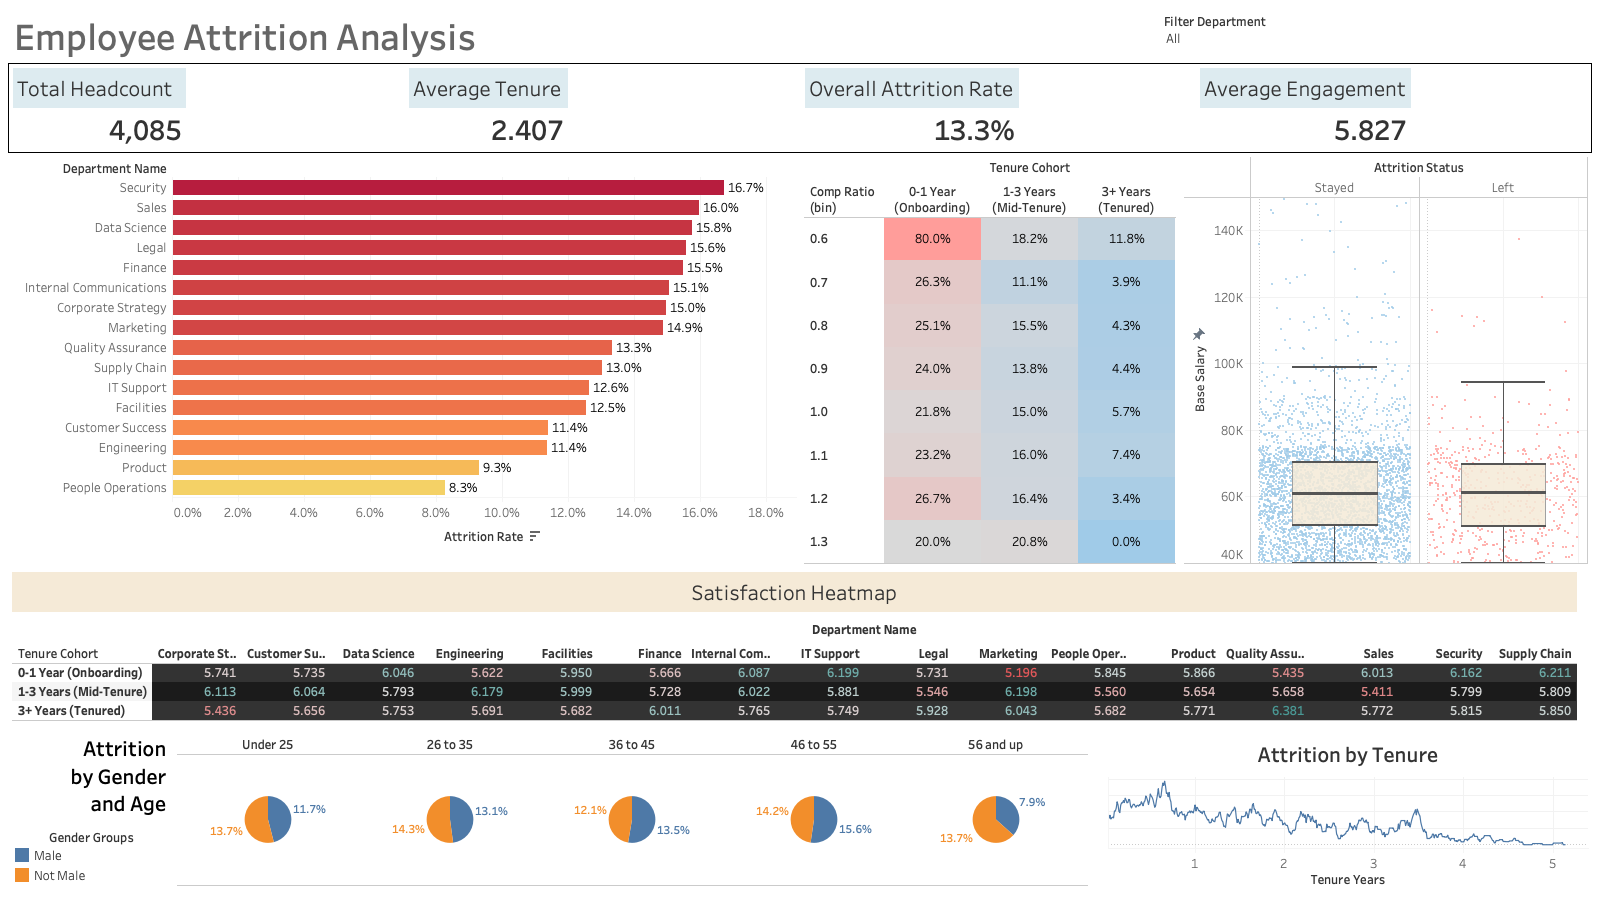

Layout of this report page (visuals, bound fields, positions):
{"tool":"tableau","page":{"name":"Dashboard 1","canvas":[1600,900],"ordinal":0},"visuals":[{"type":"text","box":[8,8,1152,55]},{"type":"filter","title":"Department Breakdown","param":"[federated.0ov7us00nfcrru15dopnp0m4w4vz].[none:department_name:nk]","box":[1160,8,432,55]},{"type":"worksheet","title":"Total Headcount","mark":"Automatic","box":[9,64,396,88]},{"type":"worksheet","title":"Average Tenure","mark":"Automatic","box":[405,64,396,88]},{"type":"worksheet","title":"Overall Attrition Rate","mark":"Automatic","box":[801,64,395,88]},{"type":"worksheet","title":"Average Engagement","mark":"Automatic","box":[1196,64,395,88]},{"type":"worksheet","title":"Department Breakdown","mark":"Automatic","rows":["department_name"],"cols":["Calculation_1973932782338049"],"box":[8,153,792,414.5]},{"type":"worksheet","title":"Tenure Impact","mark":"Square","rows":["Comp Ratio (bin)"],"cols":["tenure_cohort"],"box":[800,153,380,414.5]},{"type":"worksheet","title":"Compensation Impact","mark":"Circle","rows":["base_salary"],"cols":["Calculation_1973932792340483","Calculation_1973932797374471"],"box":[1180,153,412,414.5]},{"type":"worksheet","title":"Satisfaction Heatmap","mark":"Automatic","rows":["tenure_cohort"],"cols":["department_name"],"box":[8,567.5,1584,162.2]},{"type":"text","box":[8,729.7,165,93.5]},{"type":"worksheet","title":"Gender and Age","mark":"Pie","cols":["Calculation_1973932871745545"],"box":[173,729.7,931,162.3]},{"type":"worksheet","title":"Attrition by Tenure","mark":"Automatic","cols":["tenure_years"],"box":[1104,729.7,488,162.3]},{"type":"legend","title":"Gender and Age","param":"[federated.0ov7us00nfcrru15dopnp0m4w4vz].[none:Calculation_1973932873129994:nk]","box":[8,823.2,165,68.8]}]}

Visuals, with their boxes in screenshot pixels (x1, y1, x2, y2), scaled from the page's 1600x900 canvas onto the 1600x900 screenshot:
text: {"left": 8, "top": 8, "right": 1160, "bottom": 63}
"Department Breakdown" filter: {"left": 1160, "top": 8, "right": 1592, "bottom": 63}
"Total Headcount" worksheet: {"left": 9, "top": 64, "right": 405, "bottom": 152}
"Average Tenure" worksheet: {"left": 405, "top": 64, "right": 801, "bottom": 152}
"Overall Attrition Rate" worksheet: {"left": 801, "top": 64, "right": 1196, "bottom": 152}
"Average Engagement" worksheet: {"left": 1196, "top": 64, "right": 1591, "bottom": 152}
"Department Breakdown" worksheet: {"left": 8, "top": 153, "right": 800, "bottom": 568}
"Tenure Impact" worksheet (Square marks): {"left": 800, "top": 153, "right": 1180, "bottom": 568}
"Compensation Impact" worksheet (Circle marks): {"left": 1180, "top": 153, "right": 1592, "bottom": 568}
"Satisfaction Heatmap" worksheet: {"left": 8, "top": 568, "right": 1592, "bottom": 730}
text: {"left": 8, "top": 730, "right": 173, "bottom": 823}
"Gender and Age" worksheet (Pie marks): {"left": 173, "top": 730, "right": 1104, "bottom": 892}
"Attrition by Tenure" worksheet: {"left": 1104, "top": 730, "right": 1592, "bottom": 892}
"Gender and Age" legend: {"left": 8, "top": 823, "right": 173, "bottom": 892}
